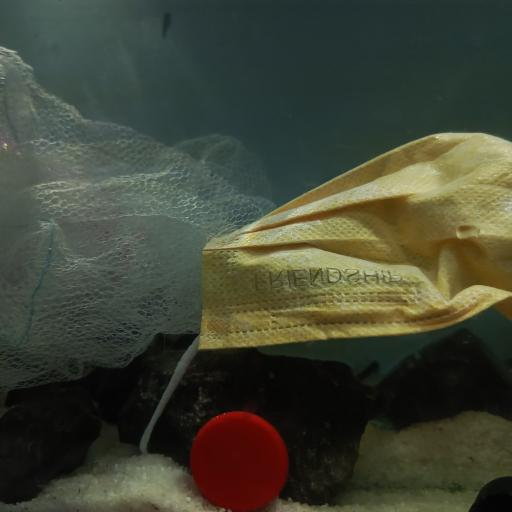bottle_cap: (189, 405, 292, 509)
mask: (170, 125, 512, 433)
net: (0, 42, 275, 381)
